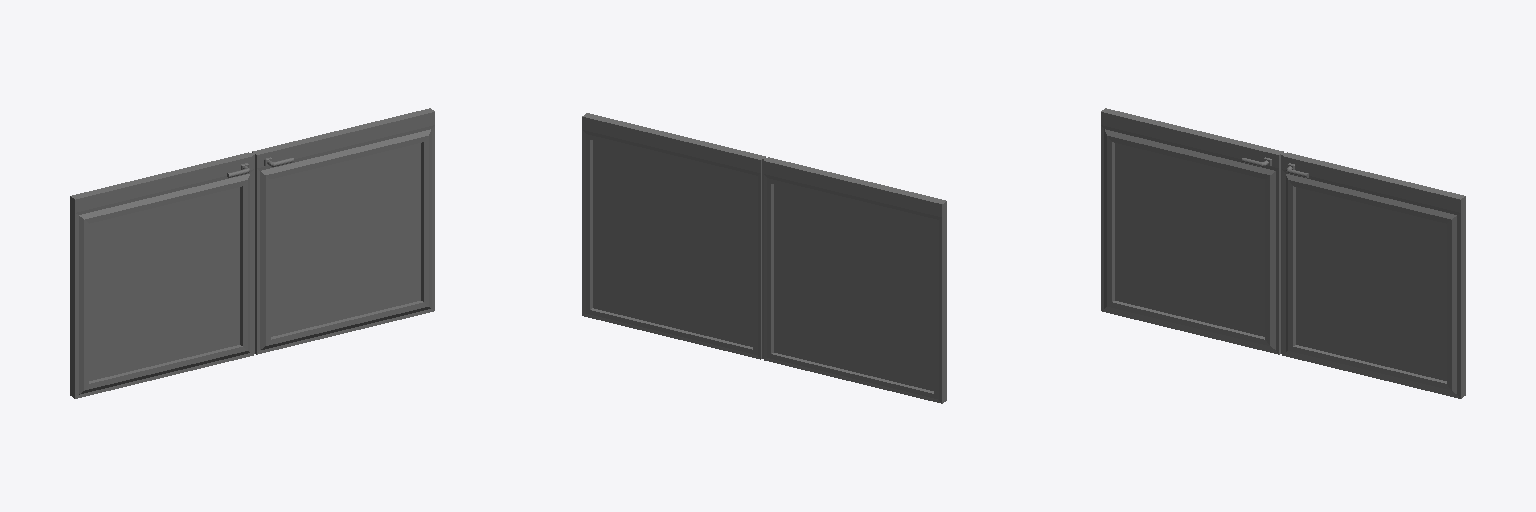
File: Window.obj
3 views of the same model, side by side, from view 1: azimuth 30°, elevation 25°; view 2: azimuth 150°, elevation 25°; view 3: azimuth 330°, elevation 25° (orthographic).
Visible parts, largest first — view 1: Window:polySurface4; view 2: Window:polySurface4; view 3: Window:polySurface4.
Boxes of the visible parts, <box> form: Window:polySurface4: <box>70,108,434,398</box>; Window:polySurface4: <box>582,113,946,403</box>; Window:polySurface4: <box>1101,108,1465,398</box>.
Bounding box in the file's own units: 36.21 × 19.17 × 2.01.